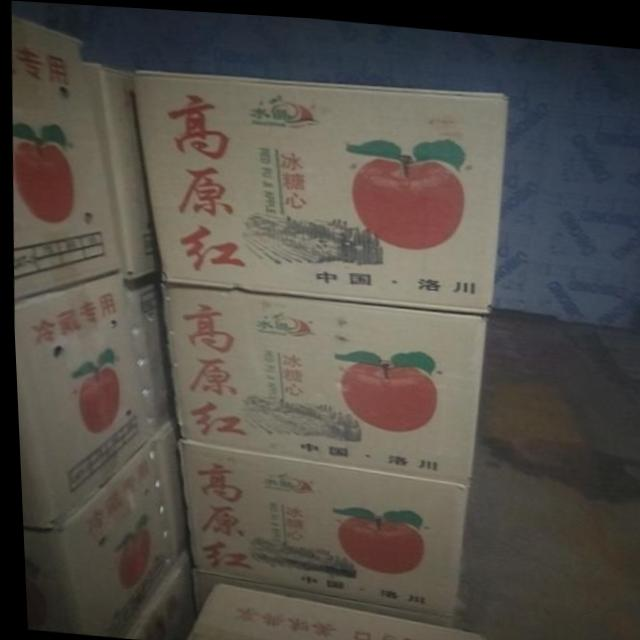box: (137, 70, 508, 307), (159, 282, 484, 480), (177, 435, 463, 614), (11, 270, 145, 530), (18, 437, 167, 636), (11, 18, 113, 301), (183, 581, 482, 640), (82, 61, 156, 279), (118, 271, 172, 436), (147, 412, 187, 568), (125, 563, 191, 640)
